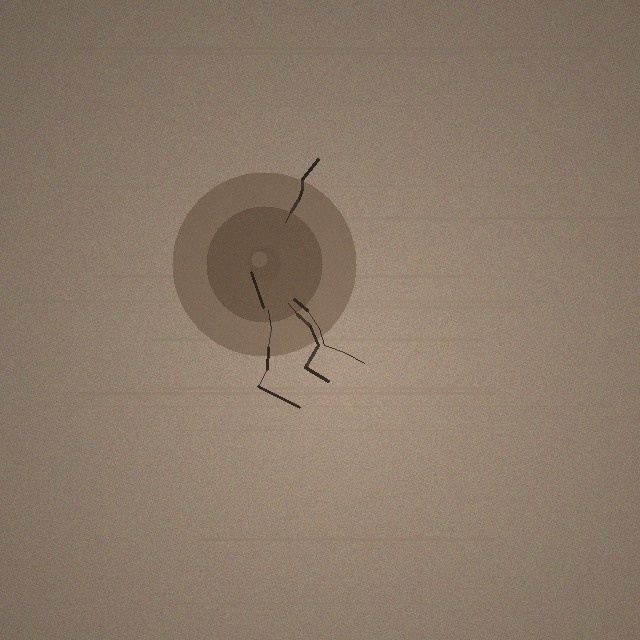crack: (172, 172, 356, 356)
